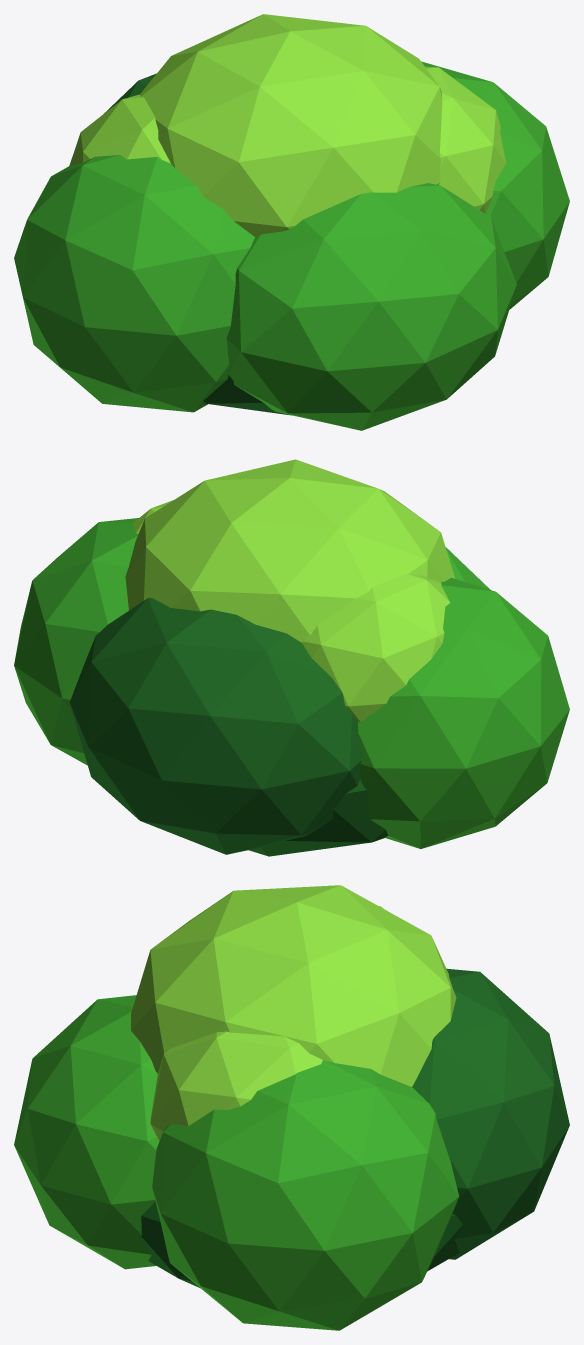
Rendered from arbusto_verde.glb.
The picture shows the model from 3 angles, top to bottom: view 1: azimuth 30°, elevation 25°; view 2: azimuth 150°, elevation 25°; view 3: azimuth 270°, elevation 25°; orthographic projection. The views are drawn at different scales.
Parts seen in each view (by area): view 1: Malha_Arbusto_verde; view 2: Malha_Arbusto_verde; view 3: Malha_Arbusto_verde.
Part boxes in pixels (x1=…): Malha_Arbusto_verde: x1=14, y1=14, x2=569, y2=430; Malha_Arbusto_verde: x1=14, y1=459, x2=569, y2=856; Malha_Arbusto_verde: x1=14, y1=885, x2=569, y2=1330.
Bounding box in the file's own units: 1.91 × 1.25 × 1.68.
